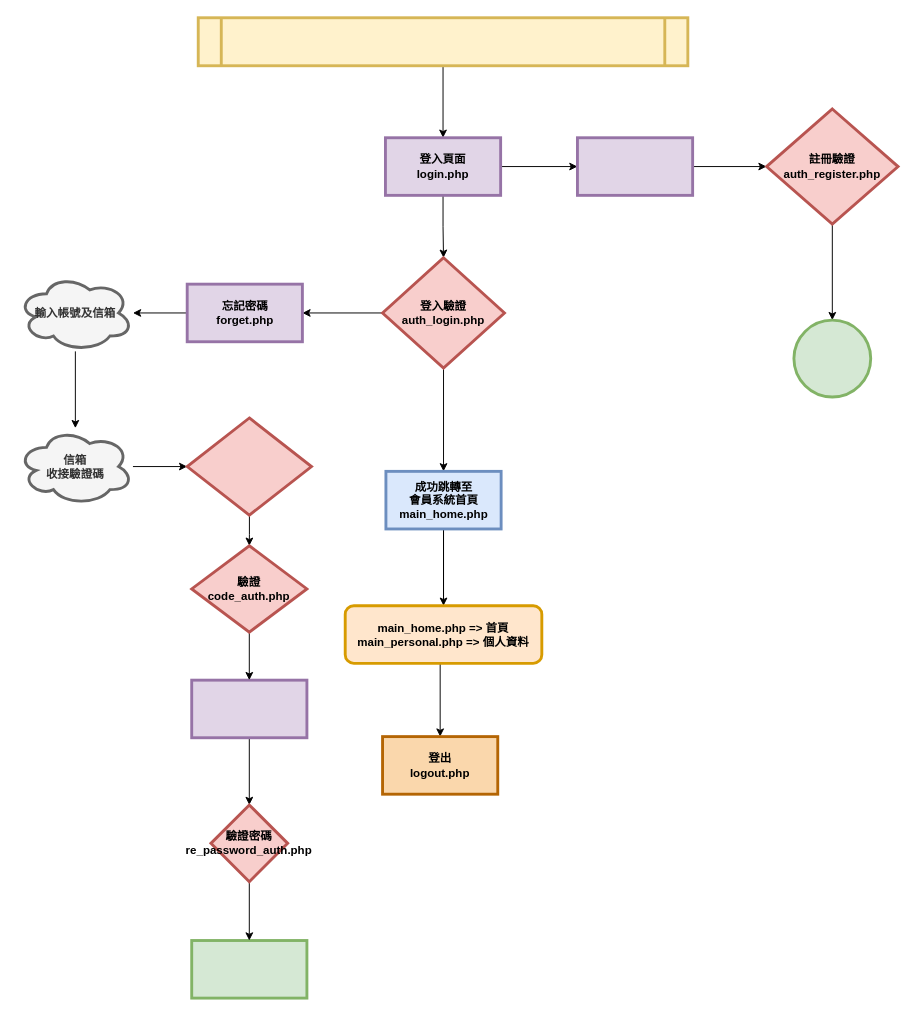
Some shapes in this 916 by 1017 pixel diagram are drawn without their labels. The centre of each missing label's shape, as x and y in pixels:
"成功倒轉至 重置密碼頁面 re_password.php" belongs at point 249,708.
"會員簡易系統" belongs at point 442,41.
"註冊成功 返回登入頁面" belongs at point 832,358.
"註冊頁面 register.php" belongs at point 635,166.
"重置完成倒轉至 登入頁面 login.php" belongs at point 249,969.
"驗證碼發送 forget_auth.php" belongs at point 248,466.
